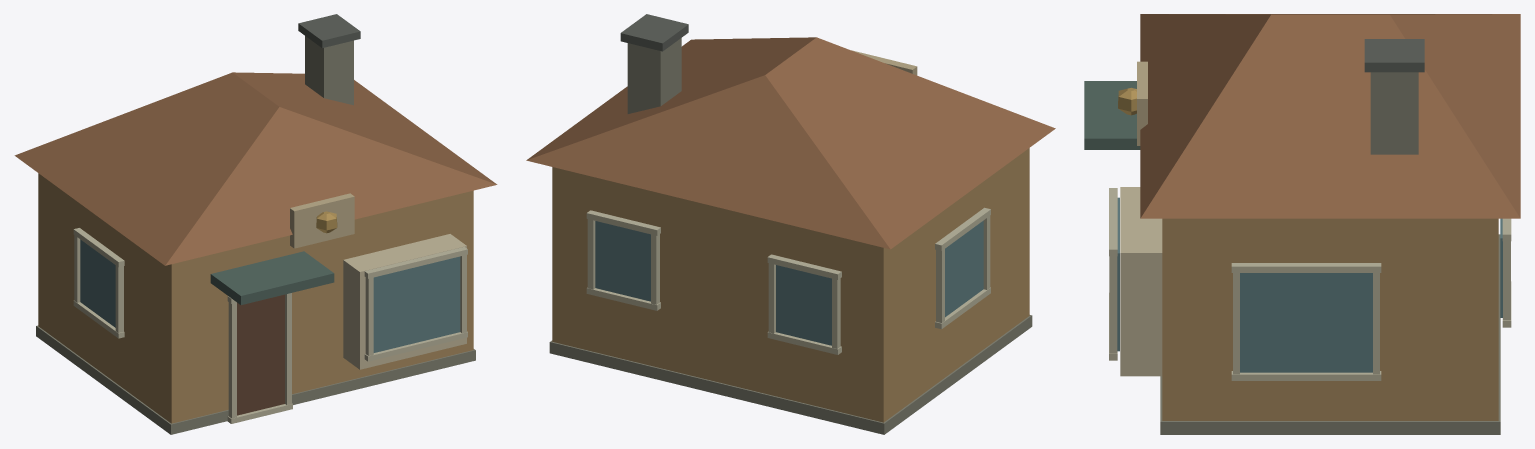
Rendered from Building_Settlement_CornerBakery_001_LOD1.glb.
The picture shows the model from 3 angles, left to right: view 1: azimuth 30°, elevation 25°; view 2: azimuth 150°, elevation 25°; view 3: azimuth 270°, elevation 25°; orthographic projection. The views are drawn at different scales.
Visible parts, largest first — view 1: Building_Settlement_CornerBakery_001_LOD1; view 2: Building_Settlement_CornerBakery_001_LOD1; view 3: Building_Settlement_CornerBakery_001_LOD1.
Boxes of the visible parts, bbox=[...] form: Building_Settlement_CornerBakery_001_LOD1: bbox=[14, 14, 497, 434]; Building_Settlement_CornerBakery_001_LOD1: bbox=[526, 14, 1055, 434]; Building_Settlement_CornerBakery_001_LOD1: bbox=[1084, 14, 1520, 434].
Bounding box in the file's own units: 6.05 × 4.84 × 5.45.
